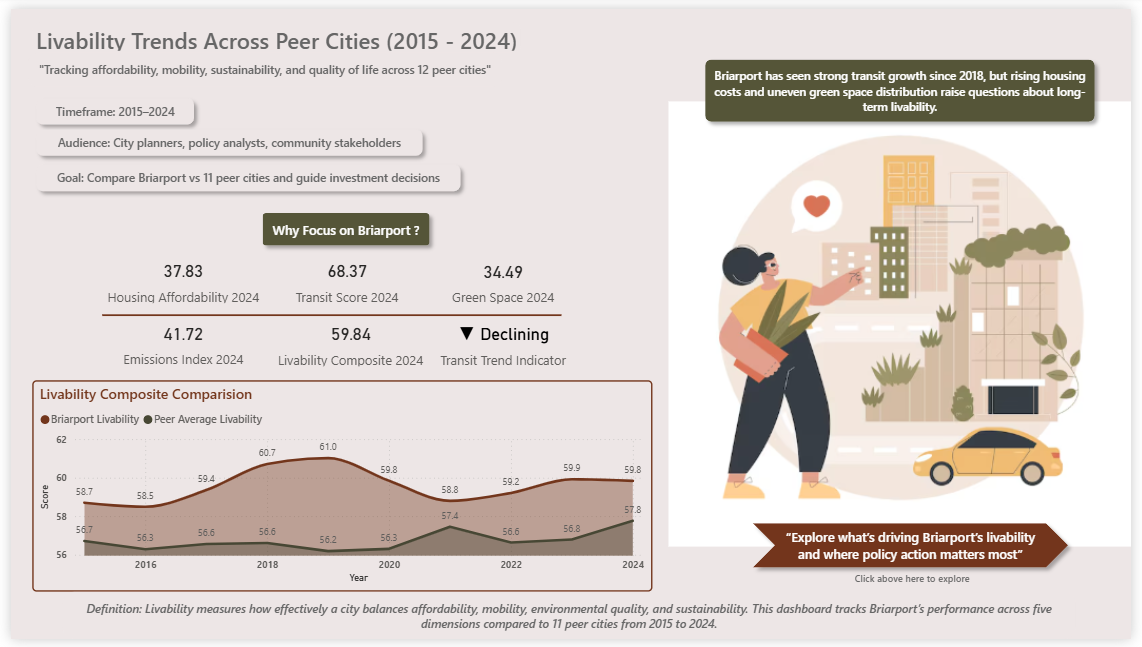

The dashboard page shown, as its layout file describes it:
{"tool":"powerbi","page":{"name":"Livability Overview","canvas":[1280,720],"ordinal":0},"visuals":[{"type":"shape","box":[20,92.5,198.2,48.1],"z":0,"group":"g2"},{"type":"shape","box":[838.8,578.8,378.6,68.6],"z":0,"group":"g3"},{"type":"image","box":[751.2,0,528.8,720],"z":500},{"type":"shape","box":[24.4,15,558.8,34.4],"z":1000,"group":"g1"},{"type":"shape","box":[20.6,128.9,459.4,48.1],"z":1000,"group":"g2"},{"type":"lineChart","title":"Livability Composite Comparision","fields":{"Y":["City Metrics.Briarport Livability","City Metrics.Peer Average Livability"],"Category":["City Metrics.Year"]},"box":[24.3,424.3,708.6,241.4],"z":1000},{"type":"shape","box":[948.5,635.9,162.9,30],"z":1000,"group":"g3"},{"type":"shape","box":[20.6,168,502.7,48.7],"z":2000,"group":"g2"},{"type":"shape","box":[58.6,665.7,1158.6,54.3],"z":2000},{"type":"group","id":"g1","title":"Group 1","box":[20,15,563.8,72.5],"z":3000},{"type":"shape","box":[784.2,48.3,463.3,89.3],"z":4000},{"type":"group","id":"g2","title":"Group 2","box":[20,92.5,503.8,123.8],"z":6000},{"type":"shape","box":[279.3,224.7,208.8,55],"z":8000},{"type":"shape","box":[20,49,540.6,38.8],"z":8001,"group":"g1"},{"type":"group","id":"g3","title":"Group 3","box":[838.8,578.8,378.8,87.5],"z":9000},{"type":"card","fields":{"Values":["City Lookup.Transit Trend Indicator"]},"box":[480.8,345.7,162.5,72.5],"z":10000},{"type":"card","fields":{"Values":["City Metrics.Housing Affordability 2024"]},"box":[104.6,278.6,185.7,62.9],"z":11000},{"type":"card","fields":{"Values":["City Metrics.Transit Score 2024"]},"box":[291.7,278.6,185.7,62.9],"z":12000},{"type":"card","fields":{"Values":["City Metrics.Green Space 2024"]},"box":[480.8,278.2,162.5,63.8],"z":13000},{"type":"card","fields":{"Values":["City Metrics.Emissions Index 2024"]},"box":[104.6,350,185.7,62.9],"z":14000},{"type":"card","fields":{"Values":["City Metrics.Livability Composite 2024"]},"box":[295.8,350.7,185,63.8],"z":15000},{"type":"shape","box":[104,333.9,525,31.2],"z":16000}]}

Visuals, with their boxes in screenshot pixels (x1, y1, x2, y2), scaled from the page's 1280x720 canvas onto the 1142x647 screenshot:
shape: 18, 83, 195, 126
shape: 748, 520, 1086, 582
image: 670, 0, 1141, 646
shape: 22, 13, 520, 44
shape: 18, 116, 428, 159
"Livability Composite Comparision" lineChart: 22, 381, 654, 598
shape: 846, 571, 992, 598
shape: 18, 151, 467, 195
shape: 52, 598, 1086, 646
"Group 1" group: 18, 13, 521, 79
shape: 700, 43, 1113, 124
"Group 2" group: 18, 83, 467, 194
shape: 249, 202, 435, 251
shape: 18, 44, 500, 79
"Group 3" group: 748, 520, 1086, 599
card - City Lookup.Transit Trend Indicator: 429, 311, 574, 376
card - City Metrics.Housing Affordability 2024: 93, 250, 259, 307
card - City Metrics.Transit Score 2024: 260, 250, 426, 307
card - City Metrics.Green Space 2024: 429, 250, 574, 307
card - City Metrics.Emissions Index 2024: 93, 315, 259, 371
card - City Metrics.Livability Composite 2024: 264, 315, 429, 372
shape: 93, 300, 561, 328
